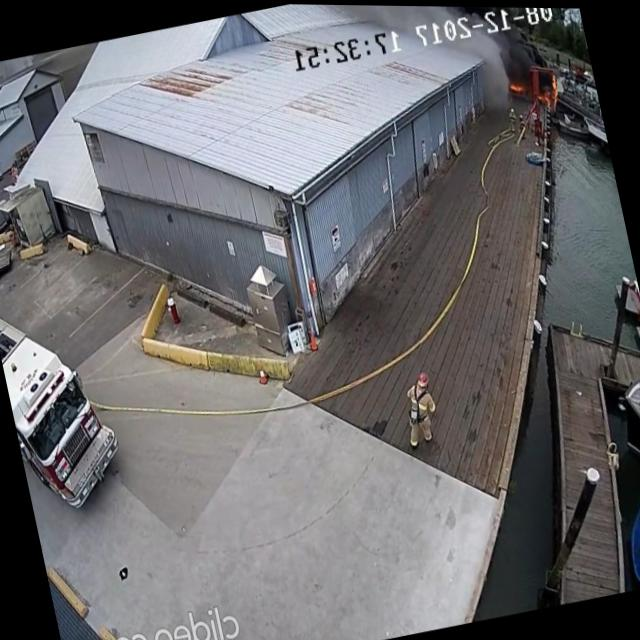fire: (530, 68, 565, 116), (503, 76, 528, 97)
